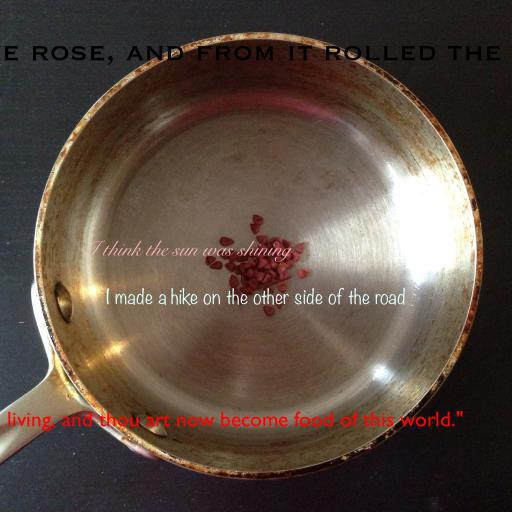Copperplate: (0, 43, 512, 65)
Gill Sans: (6, 411, 464, 432)
Noteworthy: (106, 287, 406, 306)
Snell Roundhand: (85, 240, 291, 262)
